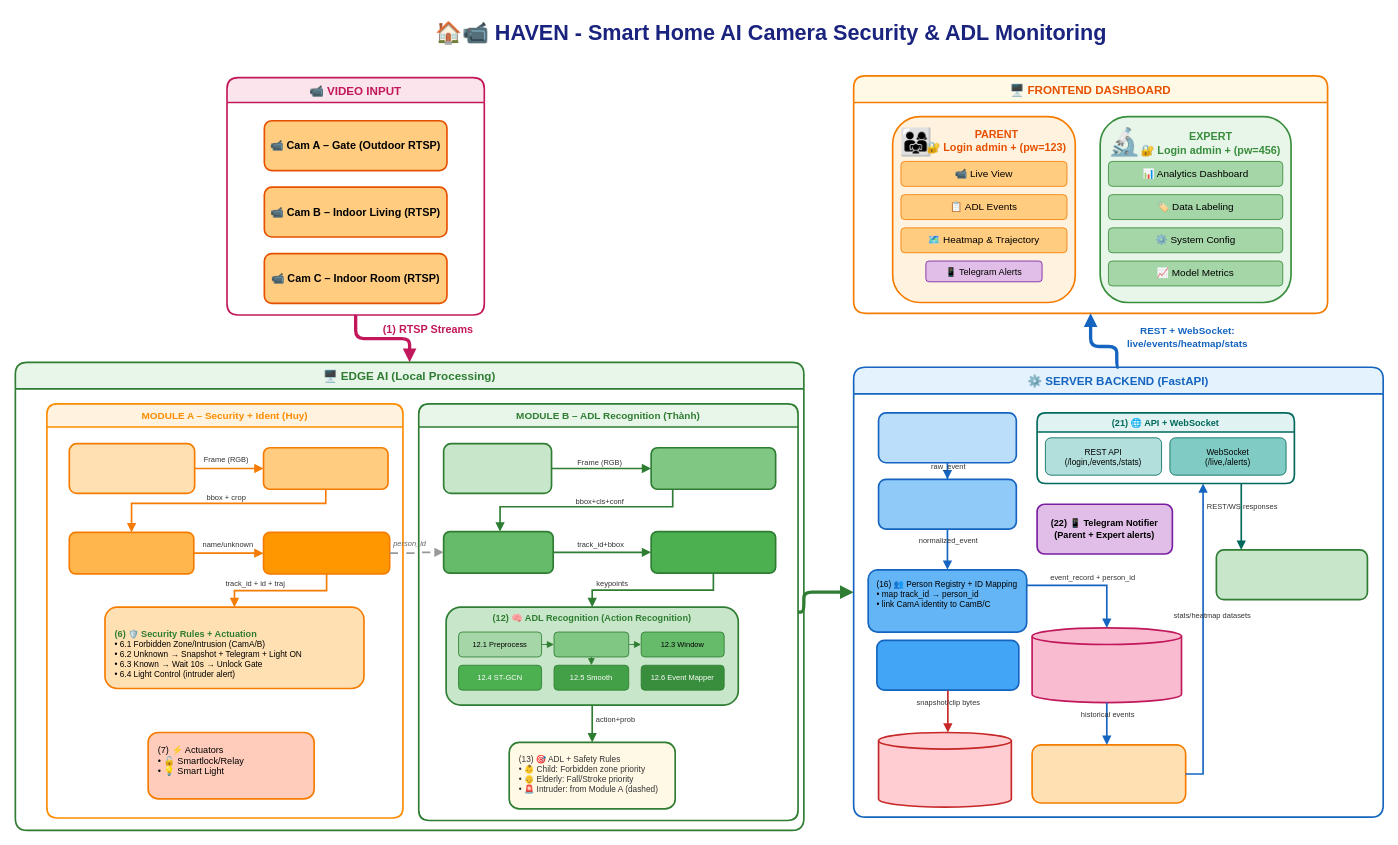
Image size: 1398x845. Some labels were removed from this diagram. Here are the shapes that lost their labels. From the top down, the centre of each, then its label:
At [947,437]: "(14) 📥 Edge Ingest API (FastAPI /ingest)".
At [131,468]: "(2) 📸 RTSP Capture • 2.1 CamA Reader • 2.2 CamB Reader".
At [325,468]: "(3) 🎯 Person Detect (YOLOv8)".
At [497,468]: "(8) 📸 RTSP Capture • 8.1 CamB Reader • 8.2 CamC Reader".
At [713,468]: "(9) 🎯 Person Detect (YOLOv11)".
At [947,504]: "(15) 🔄 Event Normalizer (parse, validate, enrich)".
At [131,552]: "(4) 👤 FaceID (InsightFace)".
At [326,552]: "(5) 🔄 Tracking/ReID (DeepSORT + OSNet)".
At [498,552]: "(10) 🔄 Tracking (ByteTrack)".
At [713,552]: "(11) 🦴 Pose Estimation (YOLOv11-Pose)".
At [1291,574]: "(23) 🖥️ Dashboard Service (Streamlit - primary)".
At [591,644]: "12.2 Graph".
At [947,665]: "(17) 📷 Media Extractor (snapshot/clip from stream)".
At [1106,665]: "(18) 🗄️ PostgreSQL (events, persons, zones)".
At [944,769]: "(19) 📦 MinIO (images, videos, clips)".
At [1108,773]: "(20) 📊 Analytics Aggregator (stats, heatmap, trajectory)".
